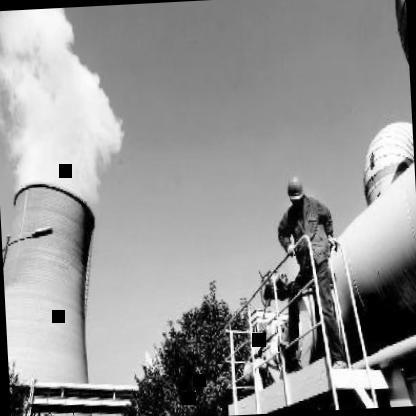helmet: (282, 172, 306, 208)
